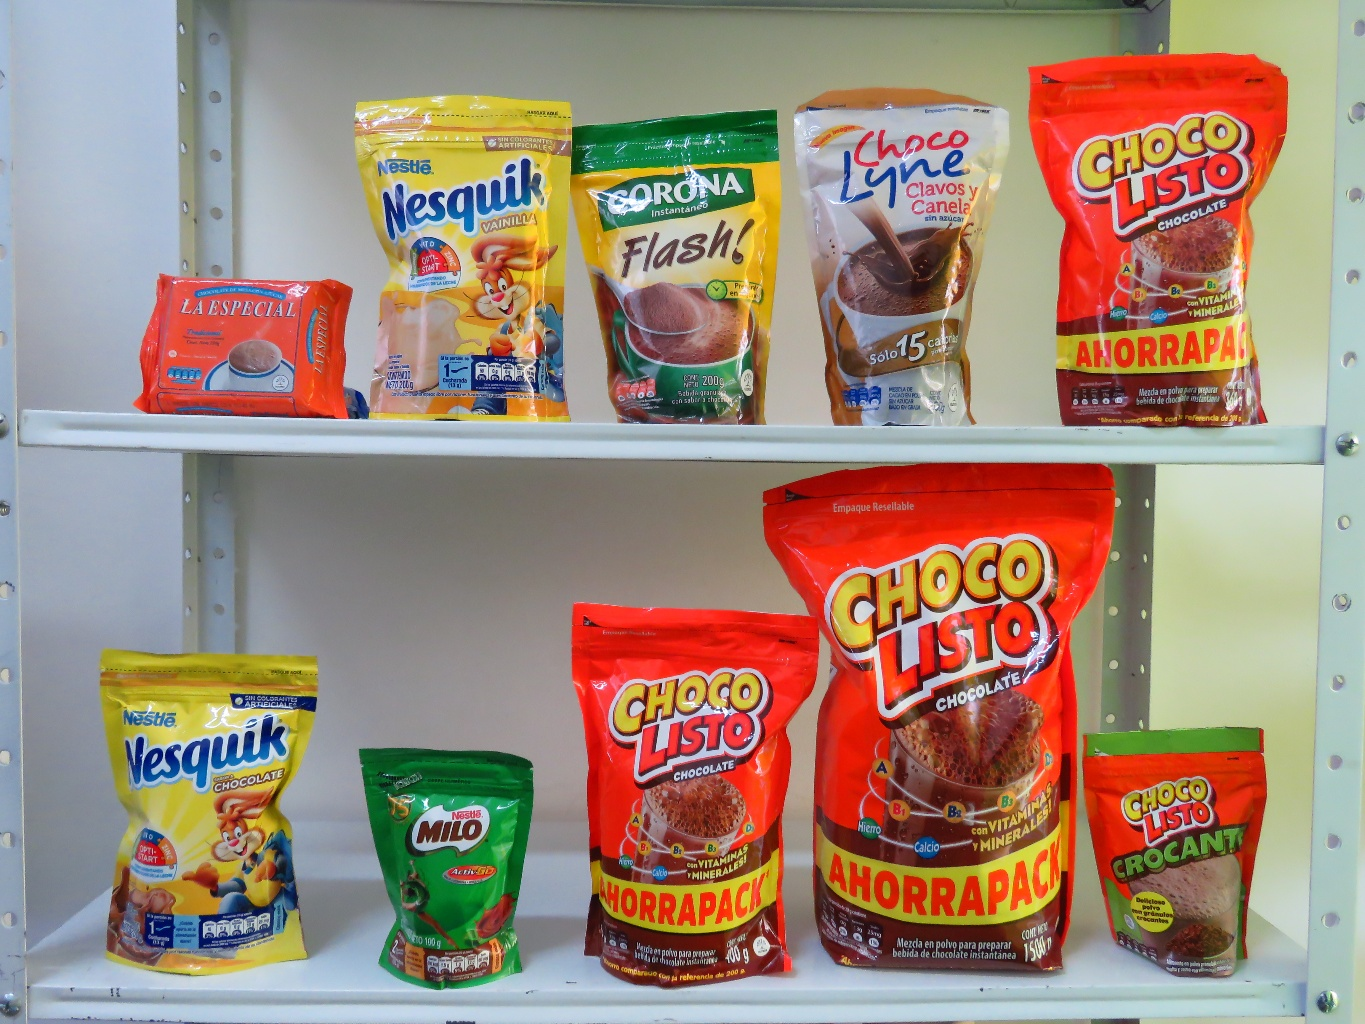COL0170102DYP10000: (1064, 713, 1276, 984)
COL0170103DYP1,500: (757, 457, 1124, 980)
COL0170103DYP36000: (1021, 28, 1316, 433)
COL0170103DYP40000: (575, 579, 799, 976)
COL0170203DYP10000: (350, 734, 548, 990)
COL0170303DYP20000: (97, 650, 342, 1001)
COL0170306DYP20000: (347, 85, 579, 436)
